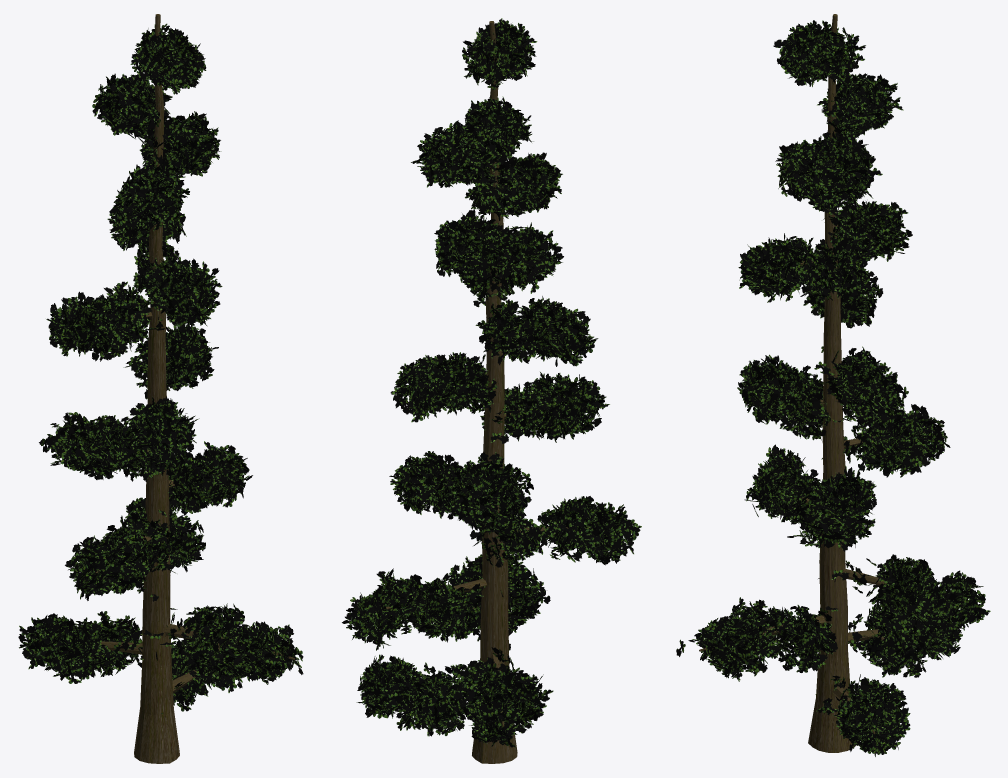
File: spruce_conifer_v01.fbx
The picture shows the model from 3 angles, left to right: view 1: azimuth 30°, elevation 25°; view 2: azimuth 150°, elevation 25°; view 3: azimuth 270°, elevation 25°; orthographic projection.
Visible parts, largest first — view 1: spruce_conifer_v01; view 2: spruce_conifer_v01; view 3: spruce_conifer_v01.
Boxes of the visible parts, x1=… form: spruce_conifer_v01: x1=18, y1=14, x2=303, y2=763; spruce_conifer_v01: x1=342, y1=18, x2=641, y2=763; spruce_conifer_v01: x1=676, y1=14, x2=990, y2=756.
Size of the model in its own units: 746 by 875 by 2201.
Materials: 2 (2 with a texture image).
